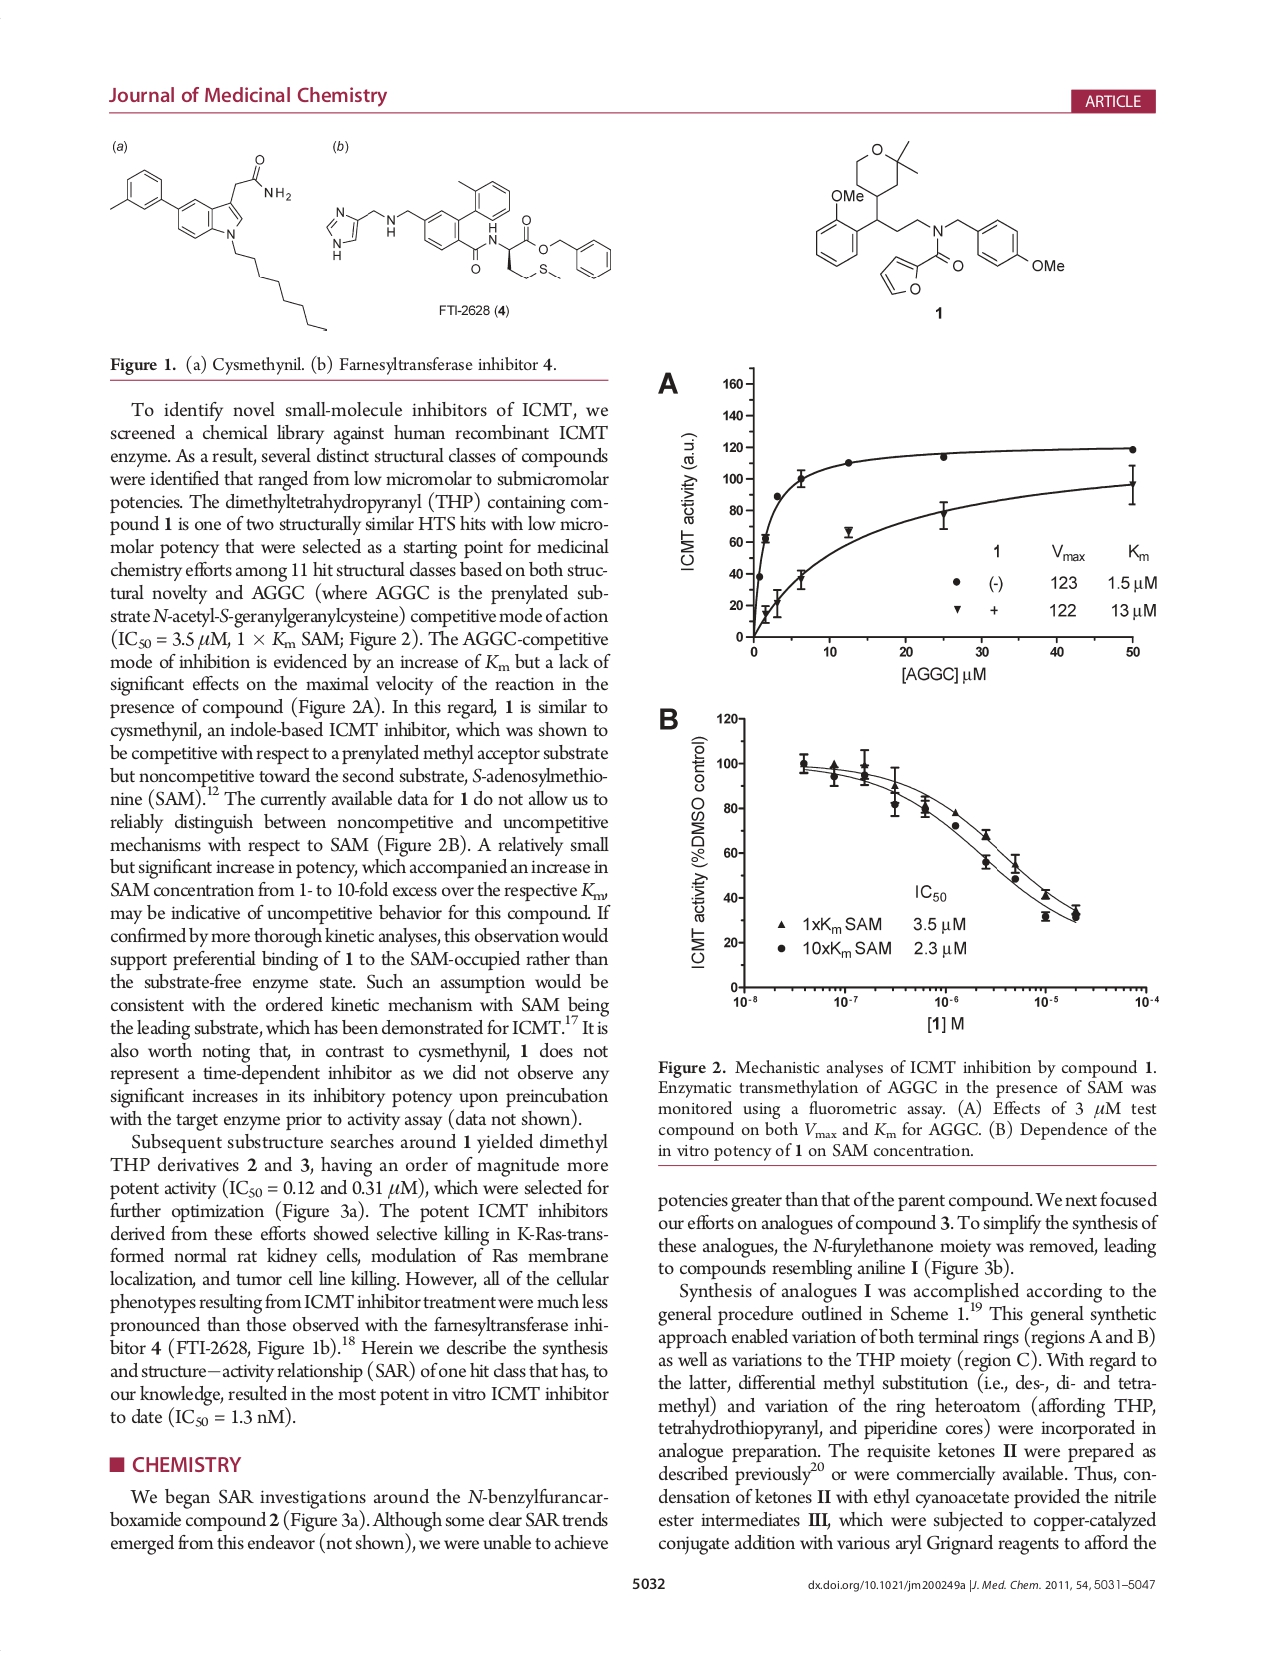exist_molecular: (108, 152, 328, 335), (813, 140, 1068, 298), (323, 177, 614, 285)
